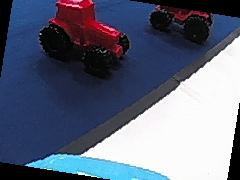Tracktor: (39, 0, 130, 74), (147, 2, 213, 41)
